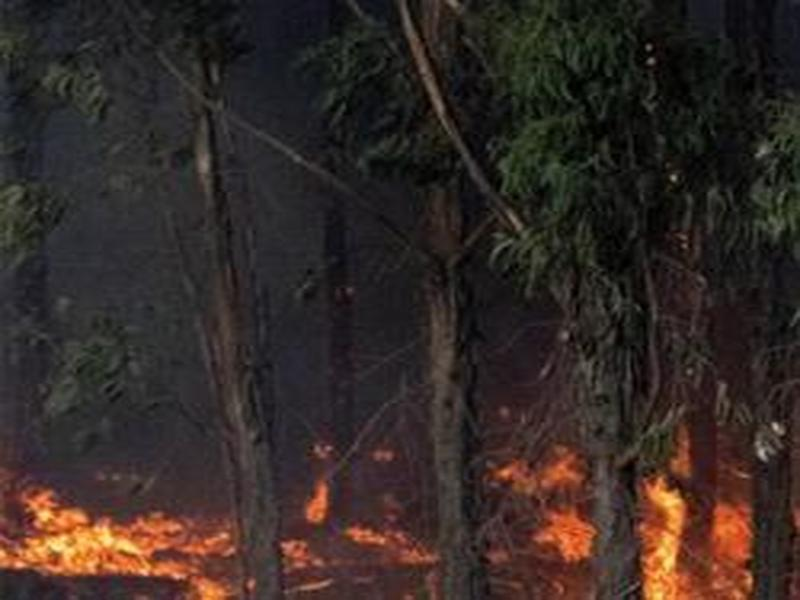FIRE: (20, 367, 765, 594)
